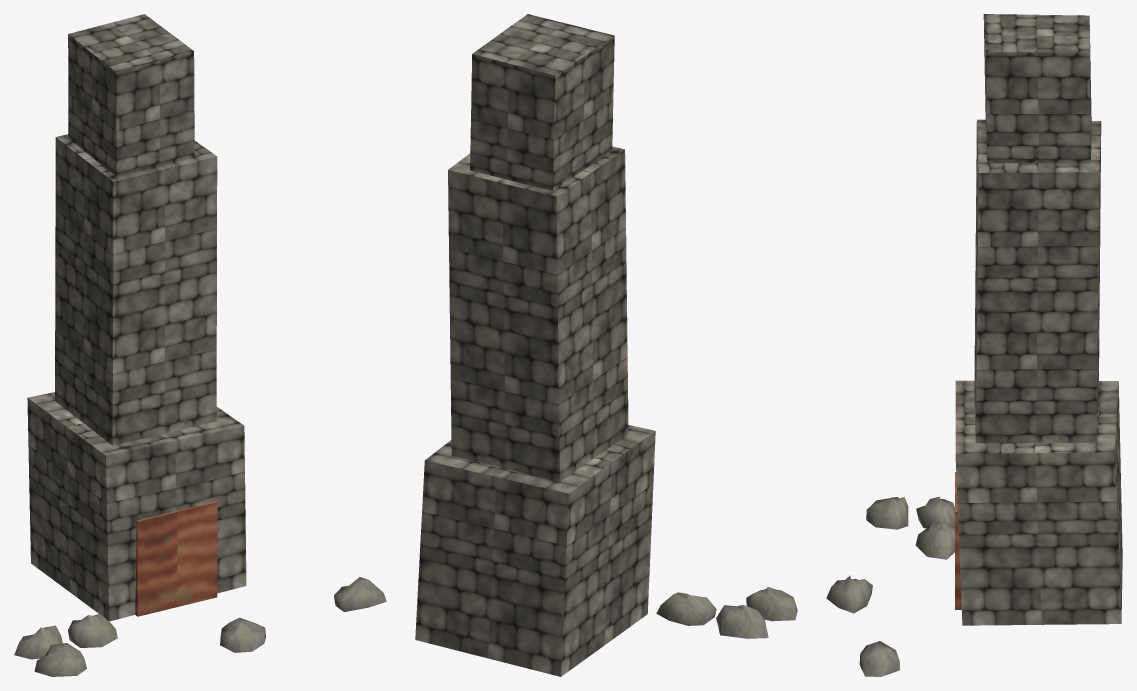
The model's file is Chimney_DryStone_1.gltf.
3 renders of one model, left to right at view 1: azimuth 30°, elevation 25°; view 2: azimuth 150°, elevation 25°; view 3: azimuth 270°, elevation 25°, orthographic. The views are drawn at different scales.
Visible parts, largest first — view 1: Chimney_DryStone_1; view 2: Chimney_DryStone_1; view 3: Chimney_DryStone_1.
Part boxes in pixels (x1,y1,x2,y2): Chimney_DryStone_1: (14, 14, 386, 676); Chimney_DryStone_1: (415, 14, 797, 676); Chimney_DryStone_1: (826, 14, 1122, 676).
Bounding box in the file's own units: 2.96 × 4.54 × 2.19.
3 materials, 3 textured.
